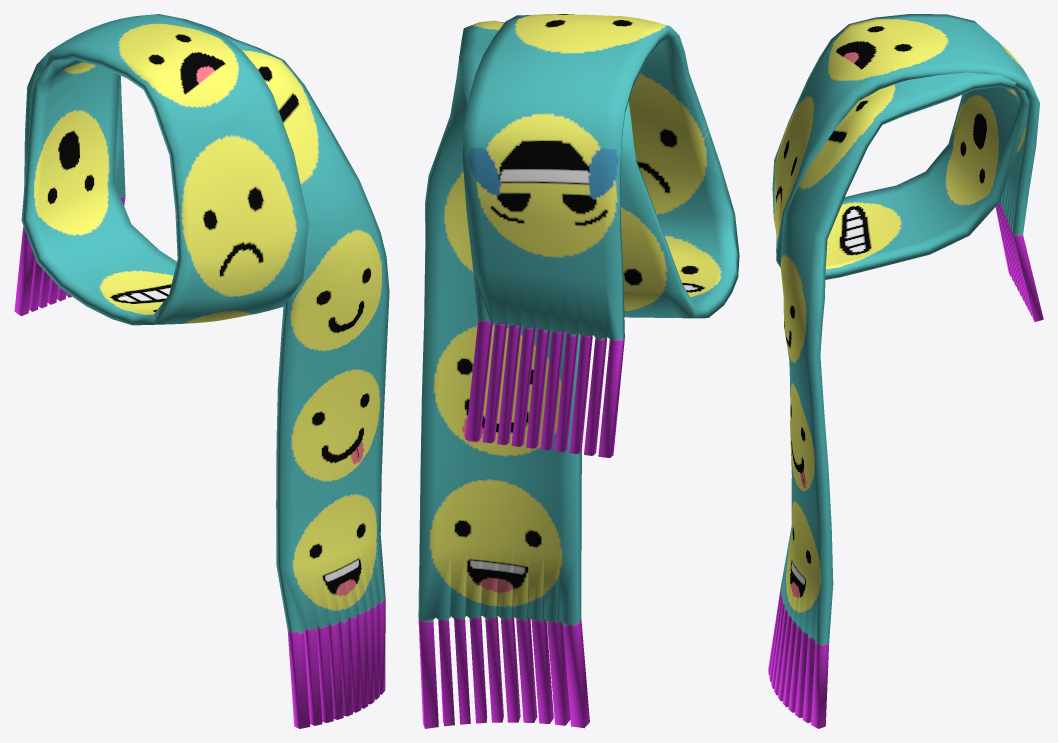
File: scarf.glb
3 renders of one model, left to right at view 1: azimuth 30°, elevation 25°; view 2: azimuth 150°, elevation 25°; view 3: azimuth 270°, elevation 25°, orthographic. The views are drawn at different scales.
Parts seen in each view (by area): view 1: Scarf; view 2: Scarf; view 3: Scarf.
Part boxes in pixels (x1,y1,x2,y2): Scarf: [14, 14, 389, 728]; Scarf: [418, 14, 739, 728]; Scarf: [768, 14, 1043, 728].
Size of the model in its own units: 0.661 by 1.43 by 0.5826.
Materials: 1 (1 with a texture image).
